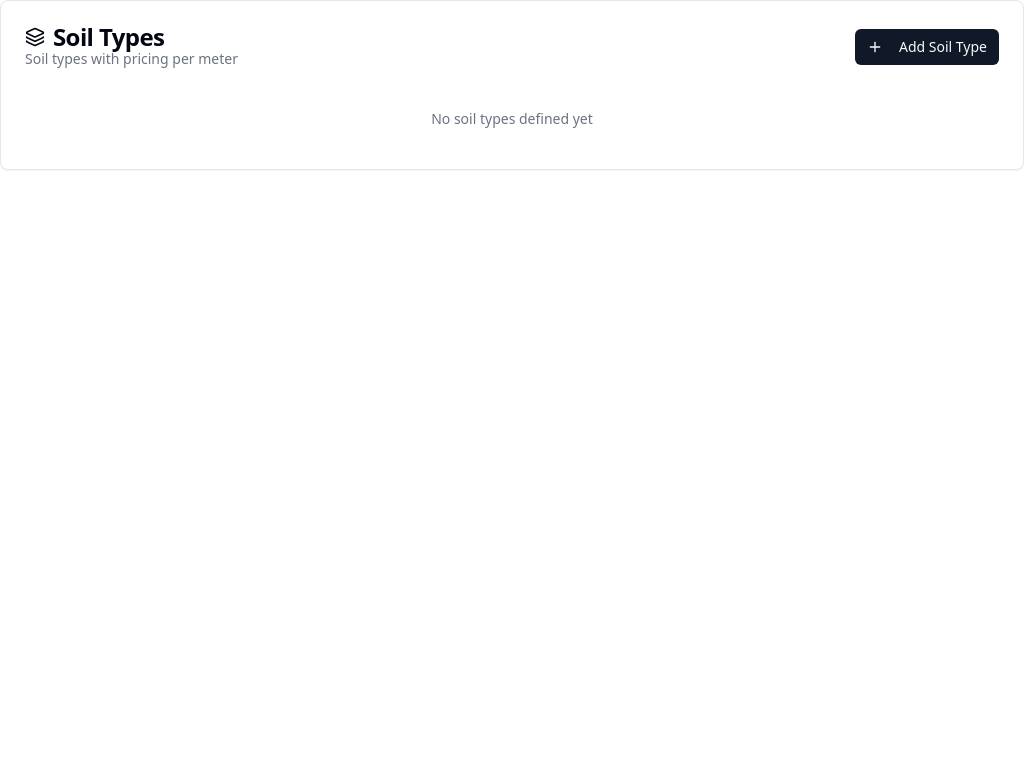
Test: ProjectSoilTypesCard › Add Soil Type Dialog › opens add dialog on button click
The image size is (1024, 768).
Expected: the text "No soil types defined yet" is shown, [431,109,593,128]
Click the button "Add Soil Type": [927, 47] box [855,29,999,65]
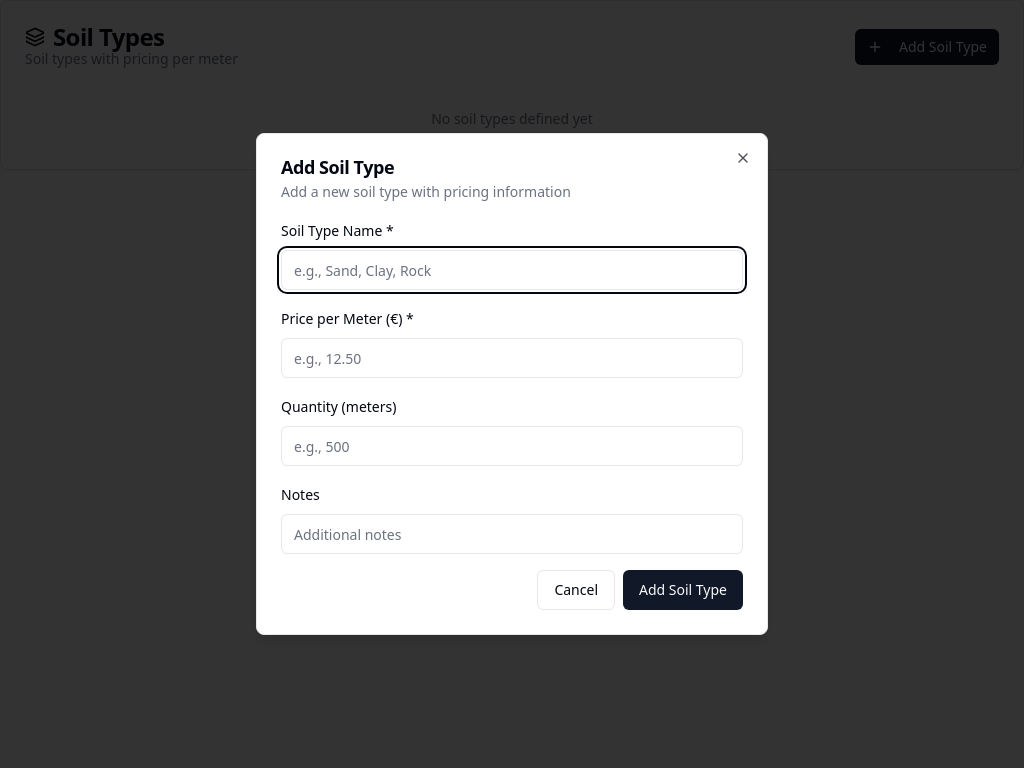
Expected: the dialog is shown, [256,133,768,635]
Expected: the field labelled "Soil Type Name *" is shown, [281,250,743,290]
Expected: the number field labelled "Price per Meter (€) *" is shown, [281,338,743,378]
